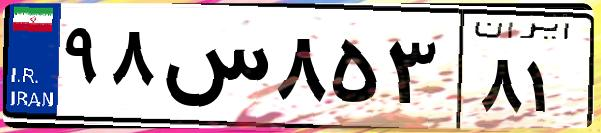1: (525, 38, 570, 115)
3: (385, 28, 445, 110)
5: (330, 28, 385, 110)
8: (270, 28, 330, 110), (475, 38, 525, 113), (110, 28, 158, 98)
9: (57, 26, 110, 100)
س: (158, 20, 270, 120)
